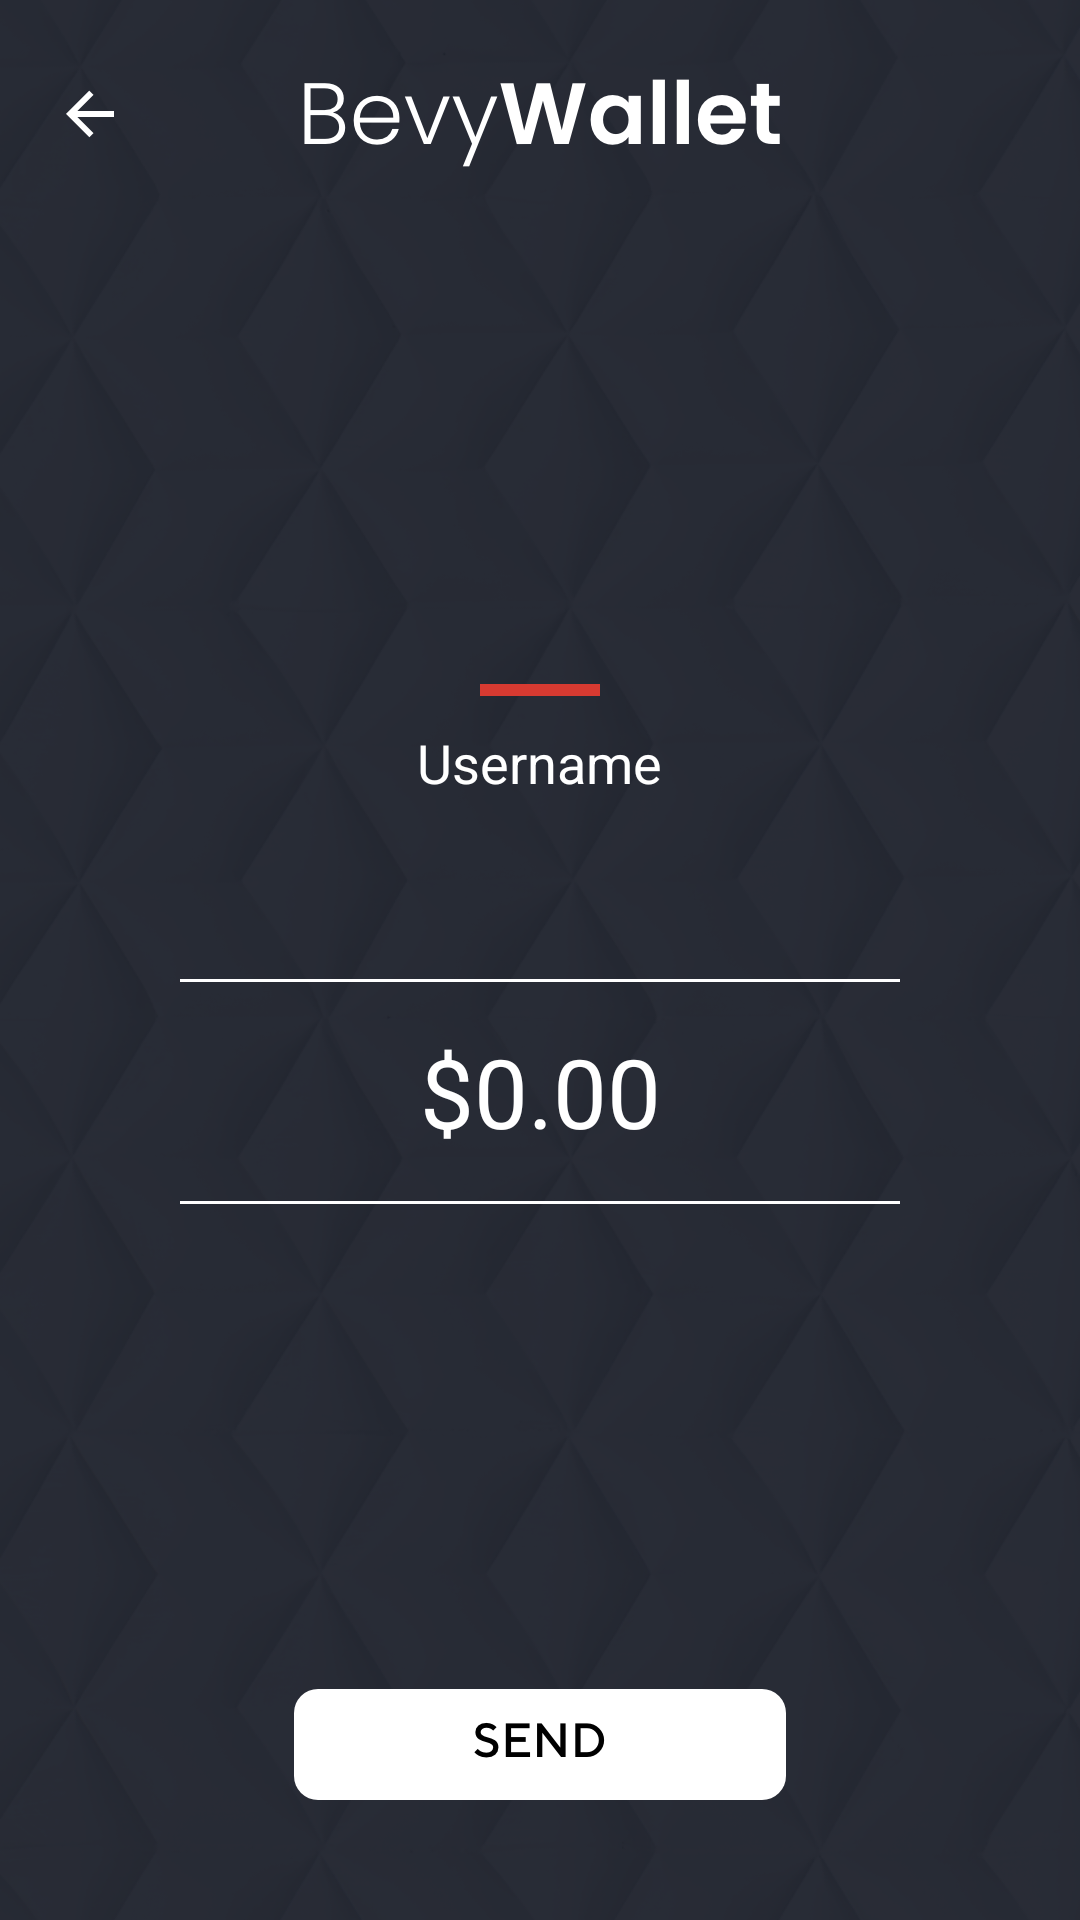

Where to tap for icons on this 1080 × 1920 app screen, as [x,y]:
back: [90,114]
